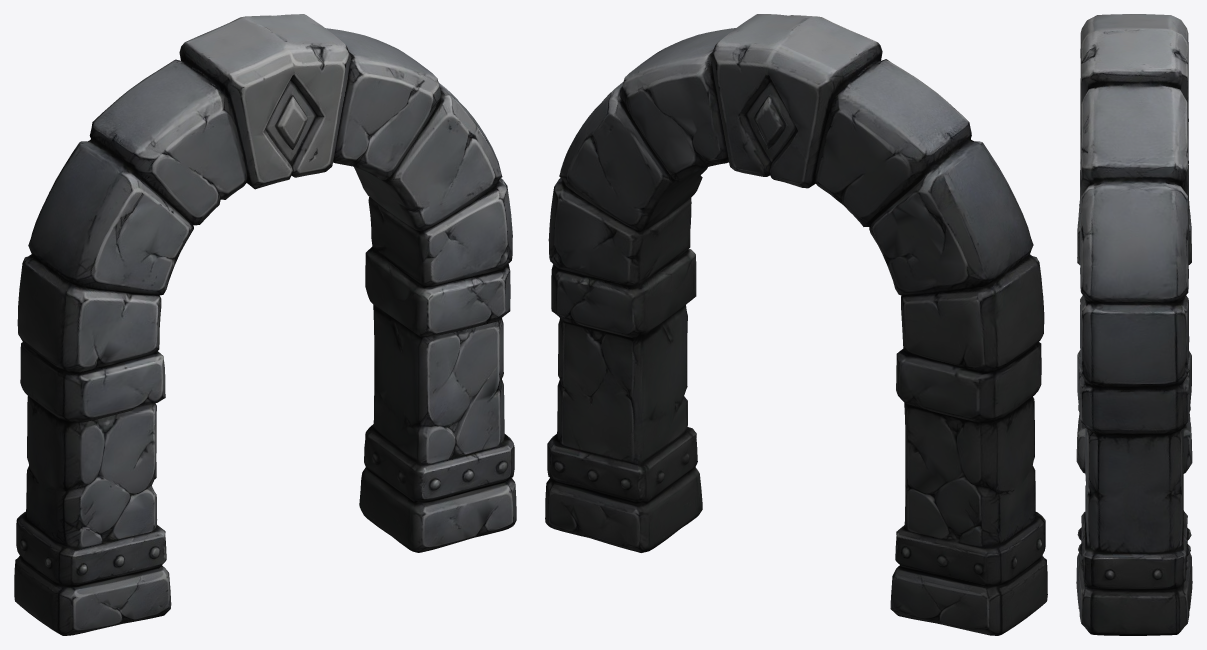
File: door_frame.glb
The picture shows the model from 3 angles, left to right: view 1: azimuth 30°, elevation 25°; view 2: azimuth 150°, elevation 25°; view 3: azimuth 270°, elevation 25°; orthographic projection. The views are drawn at different scales.
Parts seen in each view (by area): view 1: tripo_node_a51bcd01-e4e6-491c-87e7-f1b146b8c29a; view 2: tripo_node_a51bcd01-e4e6-491c-87e7-f1b146b8c29a; view 3: tripo_node_a51bcd01-e4e6-491c-87e7-f1b146b8c29a.
Part boxes in pixels (x1,y1,x2,y2): tripo_node_a51bcd01-e4e6-491c-87e7-f1b146b8c29a: (14,14,516,635); tripo_node_a51bcd01-e4e6-491c-87e7-f1b146b8c29a: (545,14,1047,635); tripo_node_a51bcd01-e4e6-491c-87e7-f1b146b8c29a: (1076,14,1192,635).
Size of the model in its own units: 0.9042 by 1 by 0.2085.
Materials: 1 (1 with a texture image).
